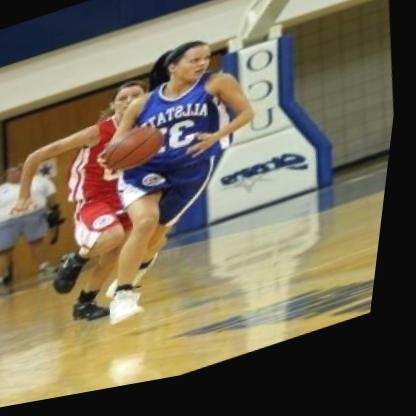basketball: (100, 122, 176, 184)
